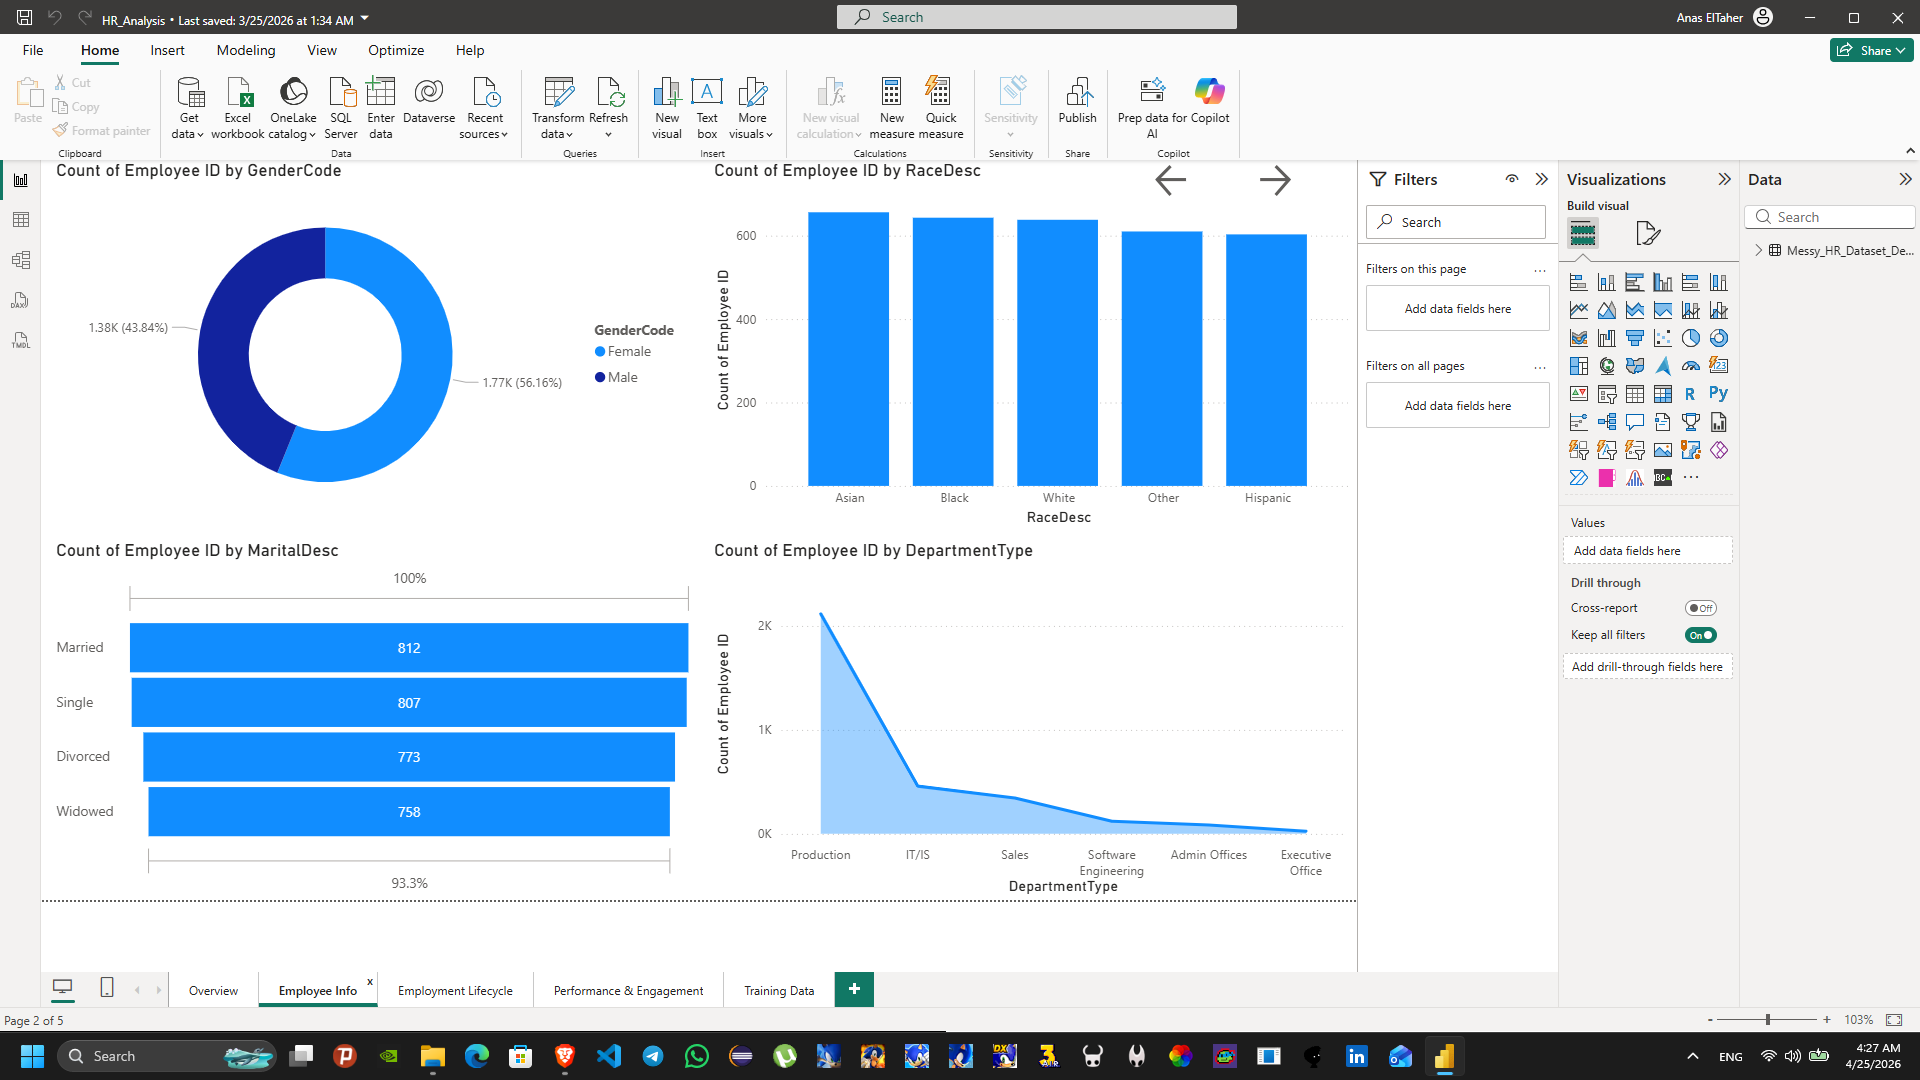

The dashboard page shown, as its layout file describes it:
{"tool":"powerbi","page":{"name":"Employee Info","canvas":[1280,720],"ordinal":1},"visuals":[{"type":"donutChart","fields":{"Category":["Messy_HR_Dataset_Detailed.GenderCode"],"Y":["CountNonNull(Messy_HR_Dataset_Detailed.Employee ID)"]},"box":[10,0,630.5,359.8],"z":0},{"type":"funnel","fields":{"Category":["Messy_HR_Dataset_Detailed.MaritalDesc"],"Y":["CountNonNull(Messy_HR_Dataset_Detailed.Employee ID)"]},"box":[10,370,630,350],"z":1},{"type":"clusteredColumnChart","fields":{"Category":["Messy_HR_Dataset_Detailed.RaceDesc"],"Y":["CountNonNull(Messy_HR_Dataset_Detailed.Employee ID)"]},"box":[650,0,630,360],"z":2},{"type":"areaChart","fields":{"Category":["Messy_HR_Dataset_Detailed.DepartmentType"],"Y":["CountNonNull(Messy_HR_Dataset_Detailed.Employee ID)"]},"box":[649.5,369.9,630.5,349.8],"z":3},{"type":"actionButton","box":[1179.8,0,100.2,40.1],"z":4},{"type":"actionButton","box":[1079.5,0,100.2,40.1],"z":5}]}

Visuals, with their boxes on the page's 1280x720 design canvas (x1, y1, x2, y2). These are canvas units, not pixel positions in the 1920x1080 screenshot, which may show the page scaled, cropped or inside an application window:
donutChart - Messy_HR_Dataset_Detailed.GenderCode x CountNonNull(Messy_HR_Dataset_Detailed.Employee ID): left=10, top=0, right=640, bottom=360
funnel - Messy_HR_Dataset_Detailed.MaritalDesc x CountNonNull(Messy_HR_Dataset_Detailed.Employee ID): left=10, top=370, right=640, bottom=720
clusteredColumnChart - Messy_HR_Dataset_Detailed.RaceDesc x CountNonNull(Messy_HR_Dataset_Detailed.Employee ID): left=650, top=0, right=1280, bottom=360
areaChart - Messy_HR_Dataset_Detailed.DepartmentType x CountNonNull(Messy_HR_Dataset_Detailed.Employee ID): left=650, top=370, right=1280, bottom=720
actionButton: left=1180, top=0, right=1280, bottom=40
actionButton: left=1080, top=0, right=1180, bottom=40
